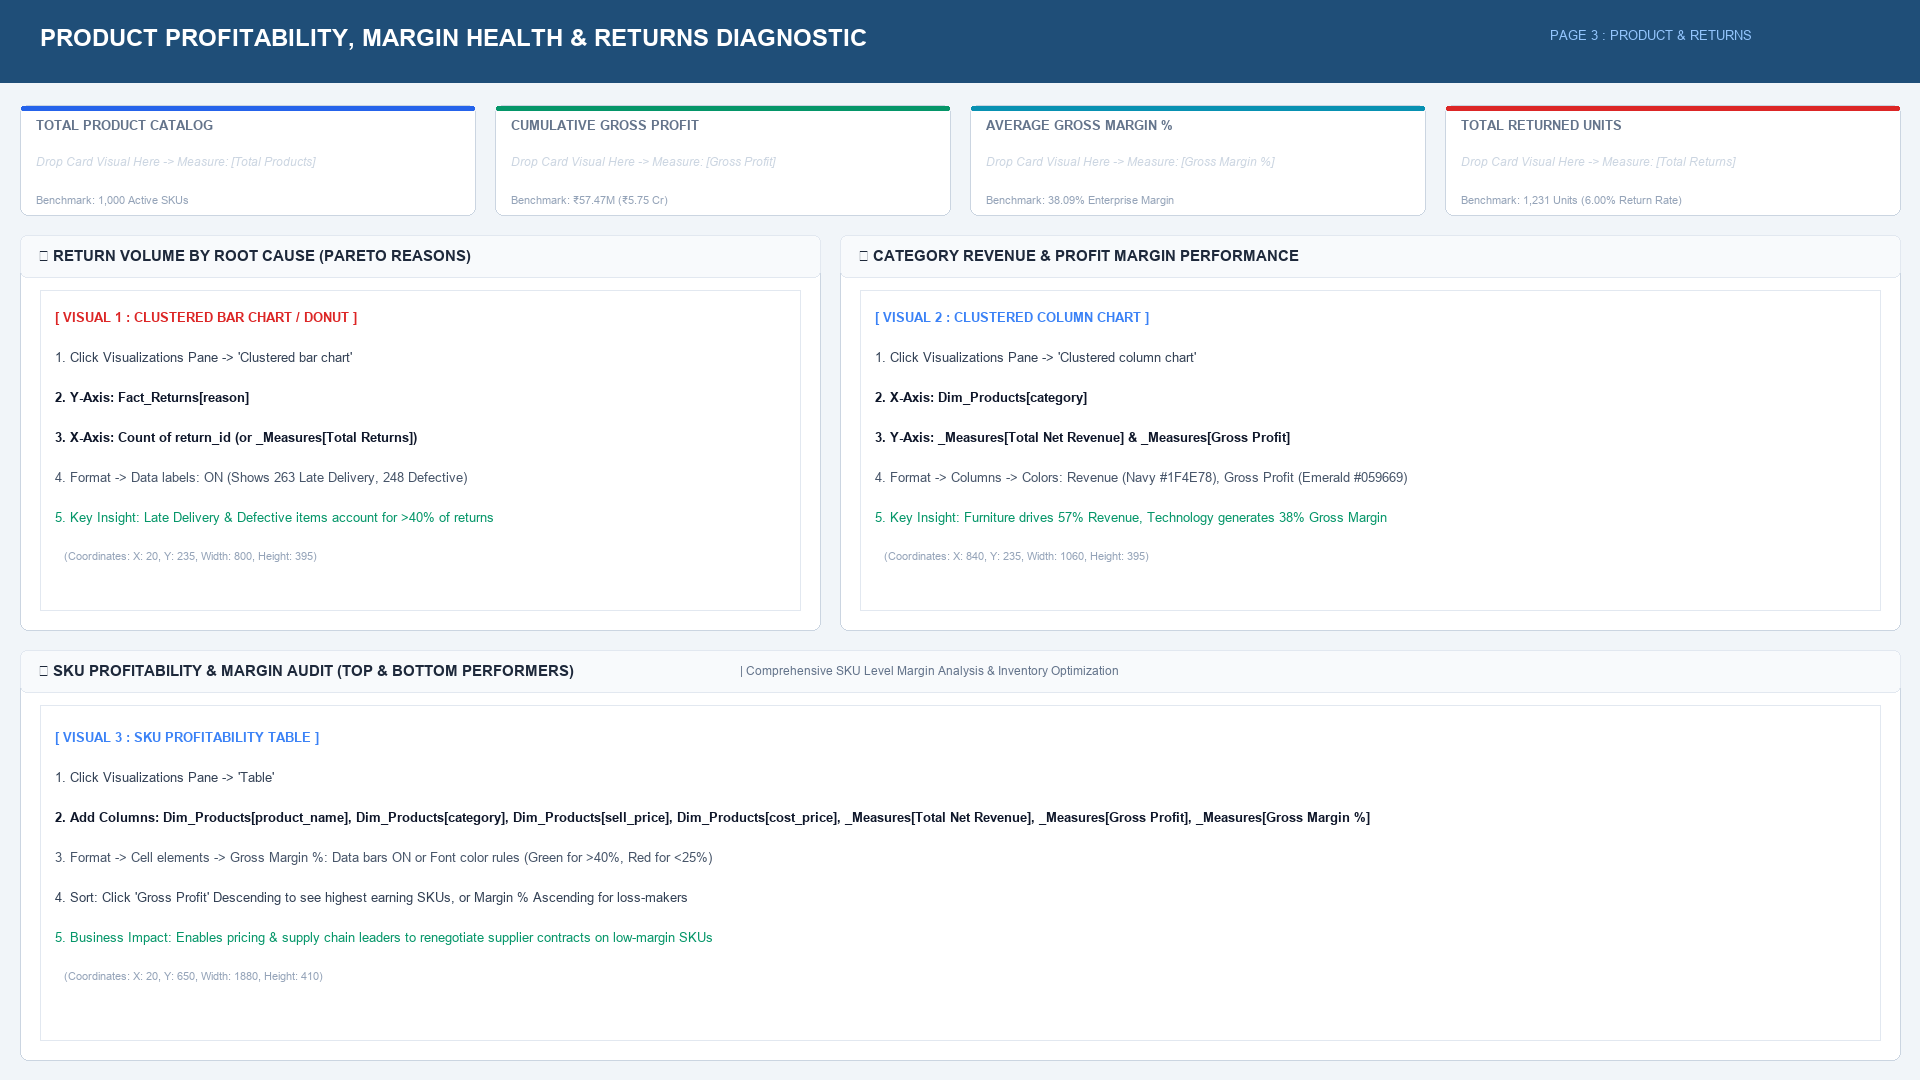

What the dashboard file says about the page in this screenshot:
{"tool":"powerbi","page":{"name":"Product & Returns Diagnotic","canvas":[1920,1080],"ordinal":2},"visuals":[{"type":"cardVisual","fields":{"Data":["_Measures.Total Products"]},"box":[21.7,101.3,456,110.4],"z":0},{"type":"cardVisual","fields":{"Data":["_Measures.Gross Profit"]},"box":[494,101.3,465.1,110.4],"z":1000},{"type":"cardVisual","fields":{"Data":["_Measures.Gross Margin %"]},"box":[975.4,101.3,452.4,110.4],"z":2000},{"type":"cardVisual","fields":{"Data":["_Measures.Total Returns"]},"box":[1444.1,101.3,454.2,110.4],"z":3000},{"type":"clusteredBarChart","title":"Return Reasons","fields":{"Category":["Fact_Returns.reason"],"Y":["_Measures.Total Returns"]},"box":[20,235,800,395],"z":4000},{"type":"clusteredColumnChart","title":"Category Profitability","fields":{"Category":["Dim_Products.category"],"Y":["_Measures.Total Net Revenue","_Measures.Gross Profit"]},"box":[840,235,1060,395],"z":5000},{"type":"tableEx","title":"SKU Margin Performance","fields":{"Values":["Dim_Products.product_name","Dim_Products.category","Dim_Products.sell_price","_Measures.Total Net Revenue","_Measures.Gross Profit","_Measures.Gross Margin %"]},"box":[20,650,1880,410],"z":6000},{"type":"shape","box":[0,0,1920.1,81.4],"z":7000},{"type":"textbox","box":[0,23.5,1920.1,57.9],"z":8000}]}

Visuals, with their boxes in screenshot pixels (x1, y1, x2, y2), scaled from the page's 1920x1080 canvas onto the 1920x1080 screenshot:
cardVisual - _Measures.Total Products: box(22, 101, 478, 212)
cardVisual - _Measures.Gross Profit: box(494, 101, 959, 212)
cardVisual - _Measures.Gross Margin %: box(975, 101, 1428, 212)
cardVisual - _Measures.Total Returns: box(1444, 101, 1898, 212)
"Return Reasons" clusteredBarChart: box(20, 235, 820, 630)
"Category Profitability" clusteredColumnChart: box(840, 235, 1900, 630)
"SKU Margin Performance" tableEx: box(20, 650, 1900, 1060)
shape: box(0, 0, 1919, 81)
textbox: box(0, 24, 1919, 81)
